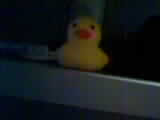duck: (46, 20, 121, 74)
